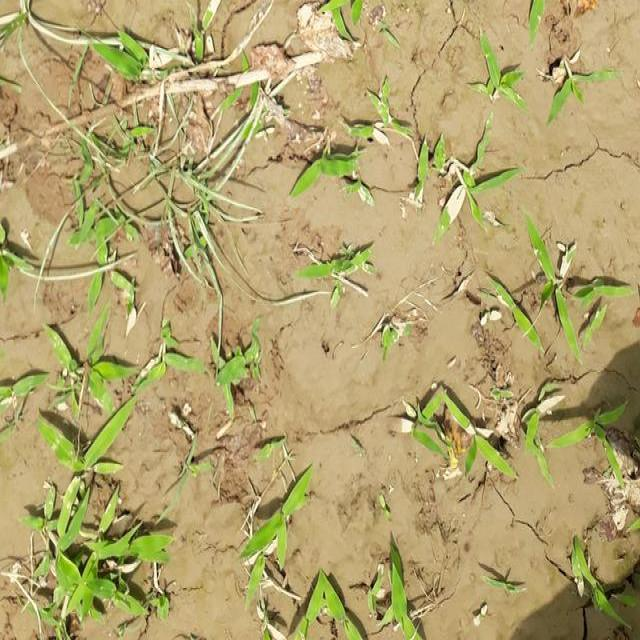weed: (40, 26, 367, 280), (0, 323, 261, 640), (398, 382, 594, 495), (228, 569, 480, 640)
